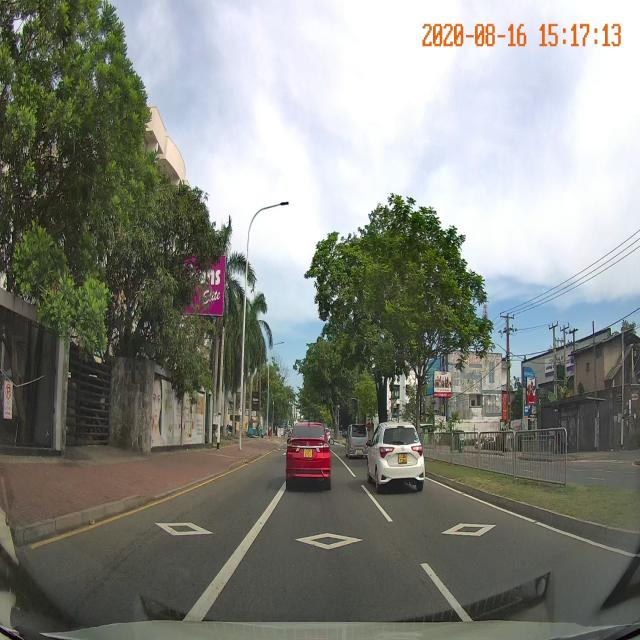Romb: (291, 531, 367, 552), (153, 519, 217, 538), (437, 521, 498, 537)
